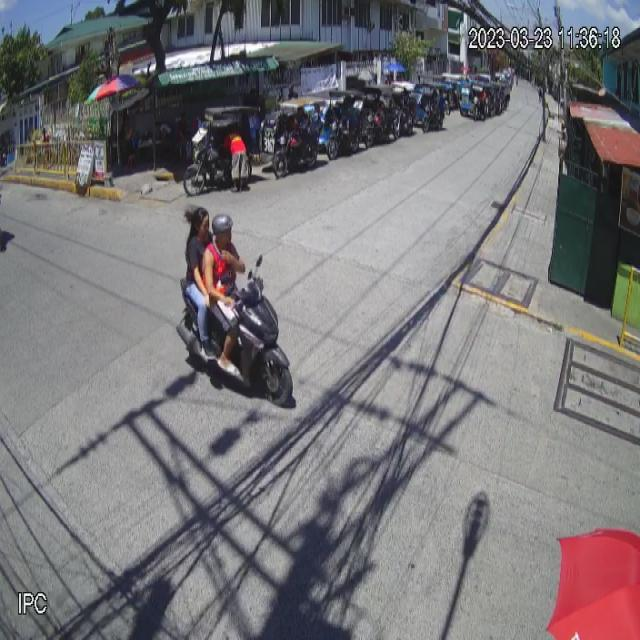Motorcycle: (170, 254, 294, 411)
